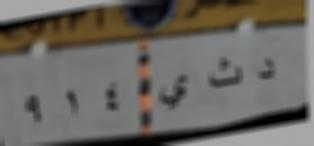1: (63, 86, 84, 120)
4: (102, 80, 122, 115)
9: (23, 92, 45, 126)
daal: (250, 47, 280, 87)
thaa: (201, 53, 246, 92)
yaa: (155, 70, 192, 112)
